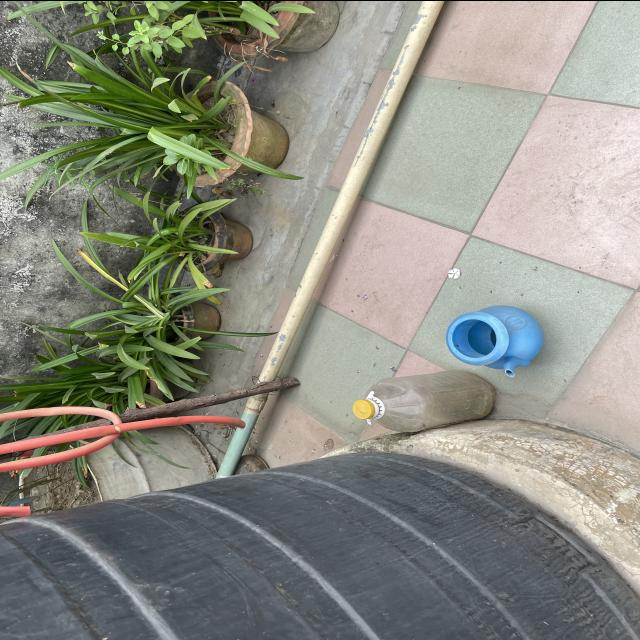Breeding Place: (13, 404, 226, 517), (162, 75, 288, 185), (354, 368, 498, 434), (205, 0, 343, 56), (446, 306, 543, 374), (161, 208, 251, 278)
